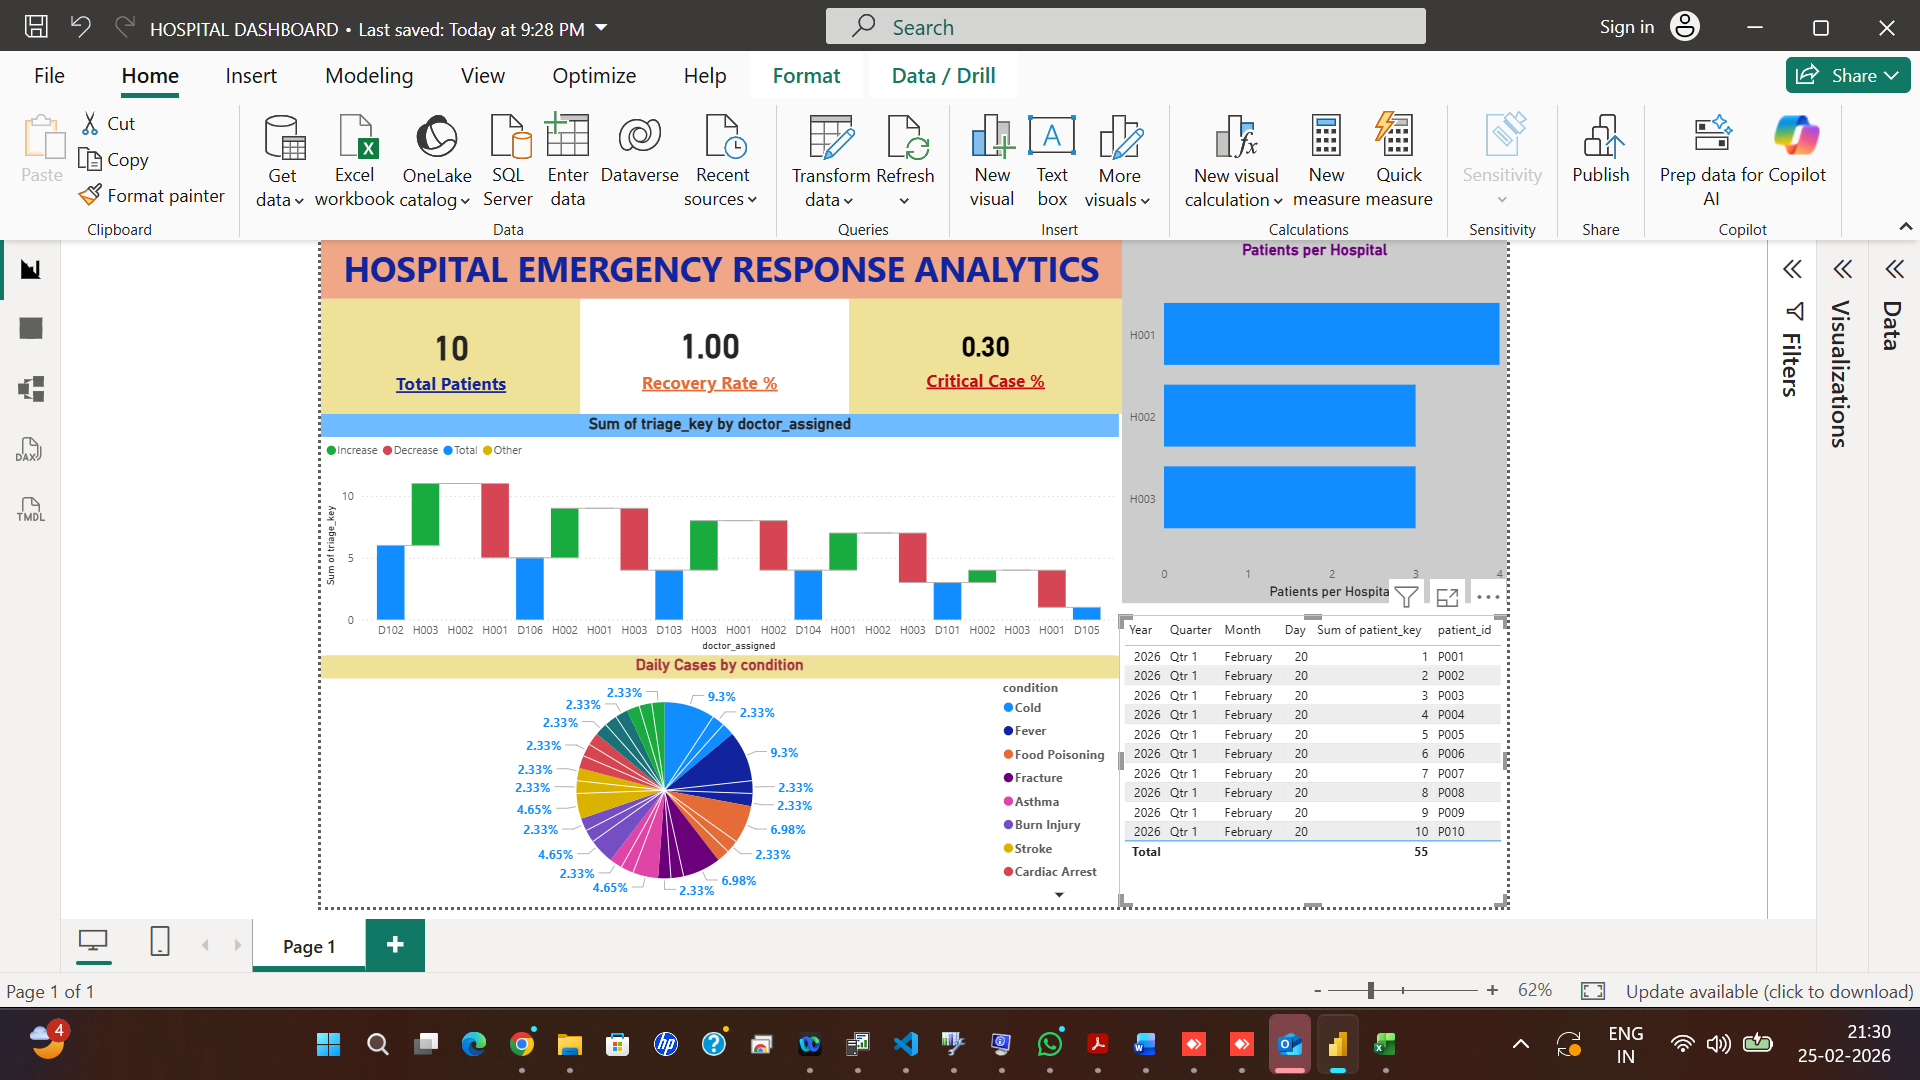

The dashboard page shown, as its layout file describes it:
{"tool":"powerbi","page":{"name":"Page 1","canvas":[1280,720],"ordinal":0},"visuals":[{"type":"card","fields":{"Values":["hospital_final.Total Patients"]},"box":[0,63.1,280.1,124.7],"z":0},{"type":"card","fields":{"Values":["hospital_final.Recovery Rate %"]},"box":[280.1,61.5,278.5,124.7],"z":1},{"type":"card","fields":{"Values":["hospital_final.Critical Case %"]},"box":[570,63.1,294.7,124.7],"z":2},{"type":"clusteredBarChart","title":"Patients per Hospital ","fields":{"Category":["hospital_final.hospital_id"],"Y":["hospital_final.Patients per Hospital"]},"box":[864.7,0,416.1,391.9],"z":3},{"type":"textbox","box":[0,0,864.7,63.1],"z":4},{"type":"tableEx","fields":{"Values":["hospital_final.treatment_start_time.Variation.Date Hierarchy.Year","hospital_final.treatment_start_time.Variation.Date Hierarchy.Quarter","hospital_final.treatment_start_time.Variation.Date Hierarchy.Month","hospital_final.treatment_start_time.Variation.Date Hierarchy.Day","Sum(hospital_final.patient_key)","hospital_final.patient_id"]},"box":[861.4,404.8,419.4,315.7],"z":5},{"type":"waterfallChart","title":"Sum of triage_key by doctor_assigned","fields":{"Category":["hospital_final.doctor_assigned"],"Y":["Sum(hospital_final.triage_key)"],"Breakdown":["hospital_final.hospital_id"]},"box":[0,187.8,861.4,260.7],"z":6},{"type":"pieChart","title":"Daily Cases by condition","fields":{"Y":["Sum(hospital_final.triage_key)","hospital_final.Total Patients","hospital_final.Daily Cases"],"Category":["hospital_final.condition"]},"box":[0,449,861,271],"z":7}]}

Visuals, with their boxes on the page's 1280x720 design canvas (x1, y1, x2, y2). These are canvas units, not pixel positions in the 1920x1080 screenshot, which may show the page scaled, cropped or inside an application window:
card - hospital_final.Total Patients: crop(0, 63, 280, 188)
card - hospital_final.Recovery Rate %: crop(280, 62, 559, 186)
card - hospital_final.Critical Case %: crop(570, 63, 865, 188)
"Patients per Hospital " clusteredBarChart: crop(865, 0, 1281, 392)
textbox: crop(0, 0, 865, 63)
tableEx - hospital_final.treatment_start_time.Variation.Date Hierarchy.Year x hospital_final.treatment_start_time.Variation.Date Hierarchy.Quarter: crop(861, 405, 1281, 720)
"Sum of triage_key by doctor_assigned" waterfallChart: crop(0, 188, 861, 448)
"Daily Cases by condition" pieChart: crop(0, 449, 861, 720)
